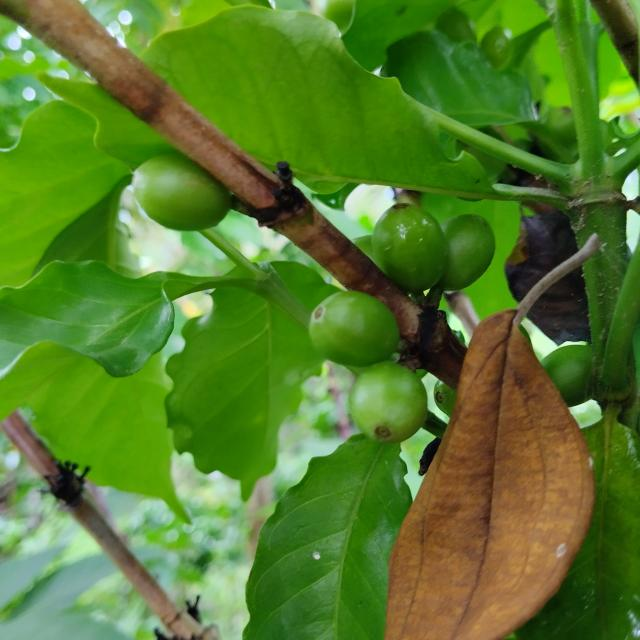green: (132, 152, 231, 231), (309, 291, 400, 368), (372, 203, 448, 293), (349, 361, 428, 443), (438, 214, 496, 291)
